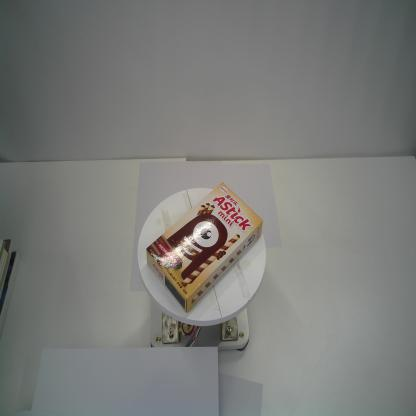Dessert: (146, 181, 263, 313)
